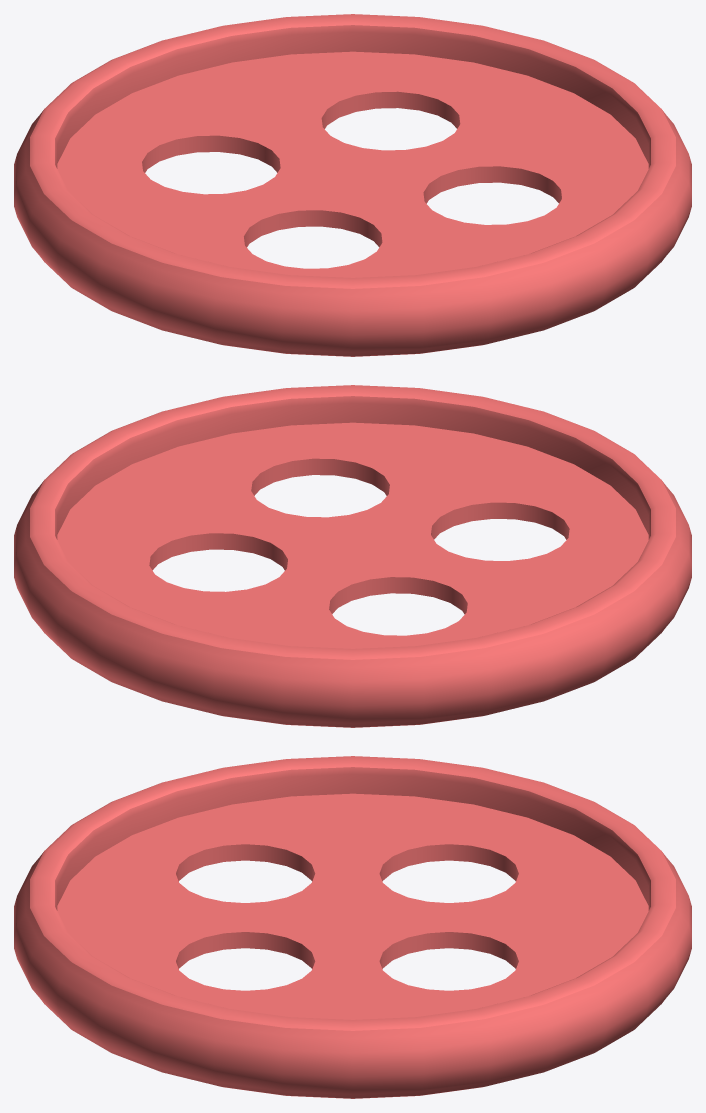
Rendered from button_red.fbx.
3 renders of one model, top to bottom at view 1: azimuth 30°, elevation 25°; view 2: azimuth 150°, elevation 25°; view 3: azimuth 270°, elevation 25°, orthographic.
Visible parts, largest first — view 1: button_red; view 2: button_red; view 3: button_red.
Boxes of the visible parts, left/top/right/bottom form: button_red: left=14, top=14, right=691, bottom=356; button_red: left=14, top=385, right=691, bottom=727; button_red: left=14, top=756, right=691, bottom=1098.
Bounding box in the file's own units: 6.6 × 0.7768 × 6.56.
